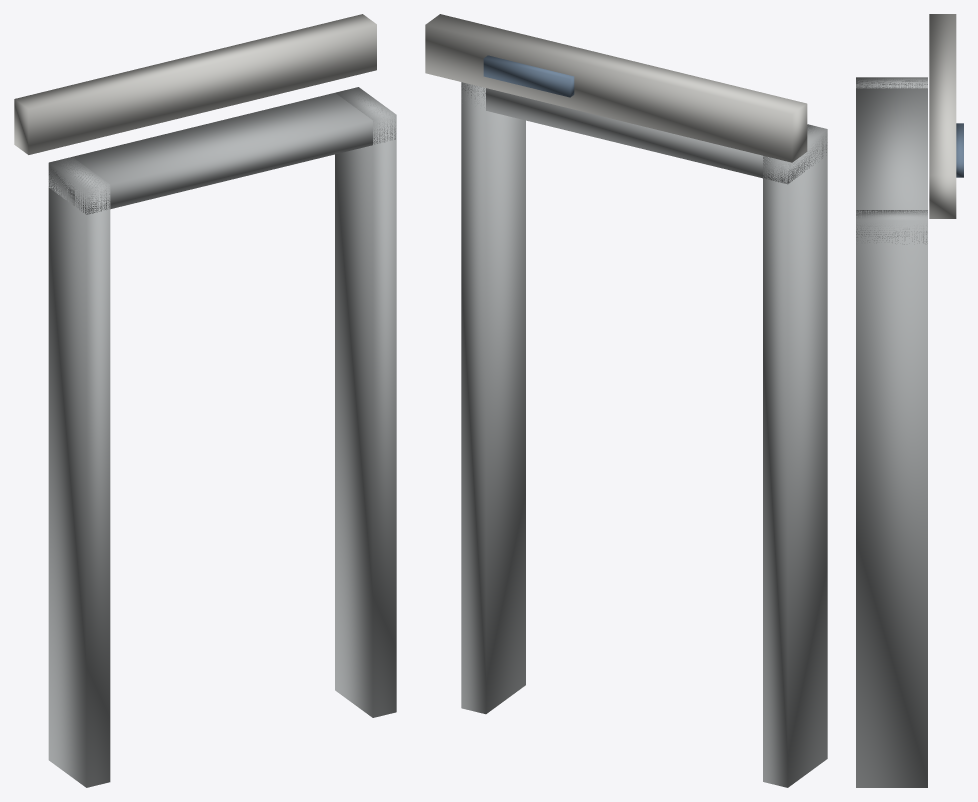
File: doorway_hospital_w96_h200_d24.glb
3 views of the same model, side by side, from view 1: azimuth 30°, elevation 25°; view 2: azimuth 150°, elevation 25°; view 3: azimuth 270°, elevation 25° (orthographic). The views are drawn at different scales.
Visible parts, largest first — view 1: world; view 2: world; view 3: world.
Boxes of the visible parts, x1,y1,x2,y2 form: world: [14, 14, 396, 787]; world: [425, 14, 827, 787]; world: [856, 14, 963, 787].
Size of the model in its own units: 1.27 by 2.29 by 0.36.
